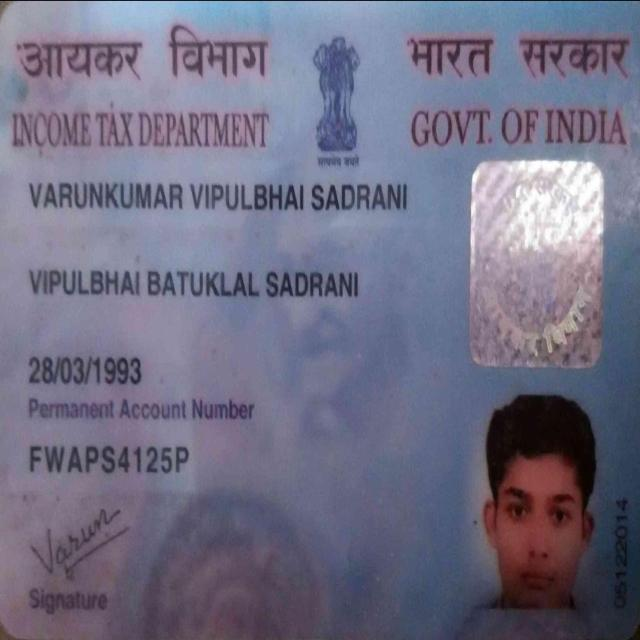pan_card: (1, 4, 638, 632)
